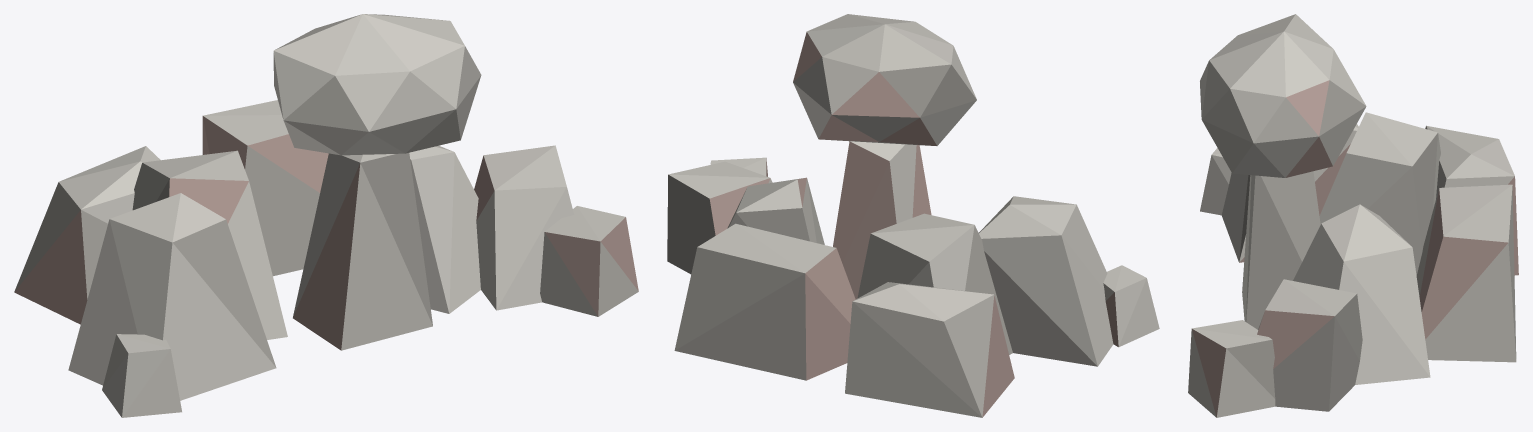
Rendered from balanced-rock.glb.
3 renders of one model, left to right at view 1: azimuth 30°, elevation 25°; view 2: azimuth 150°, elevation 25°; view 3: azimuth 270°, elevation 25°, orthographic. The views are drawn at different scales.
Visible parts, largest first — view 1: BalancedRock; view 2: BalancedRock; view 3: BalancedRock.
Boxes of the visible parts, x1,y1,x2,y2 form: BalancedRock: (14,14,638,417); BalancedRock: (667,14,1159,417); BalancedRock: (1188,14,1518,417).
Bounding box in the file's own units: 10.89 × 6.22 × 6.64.
